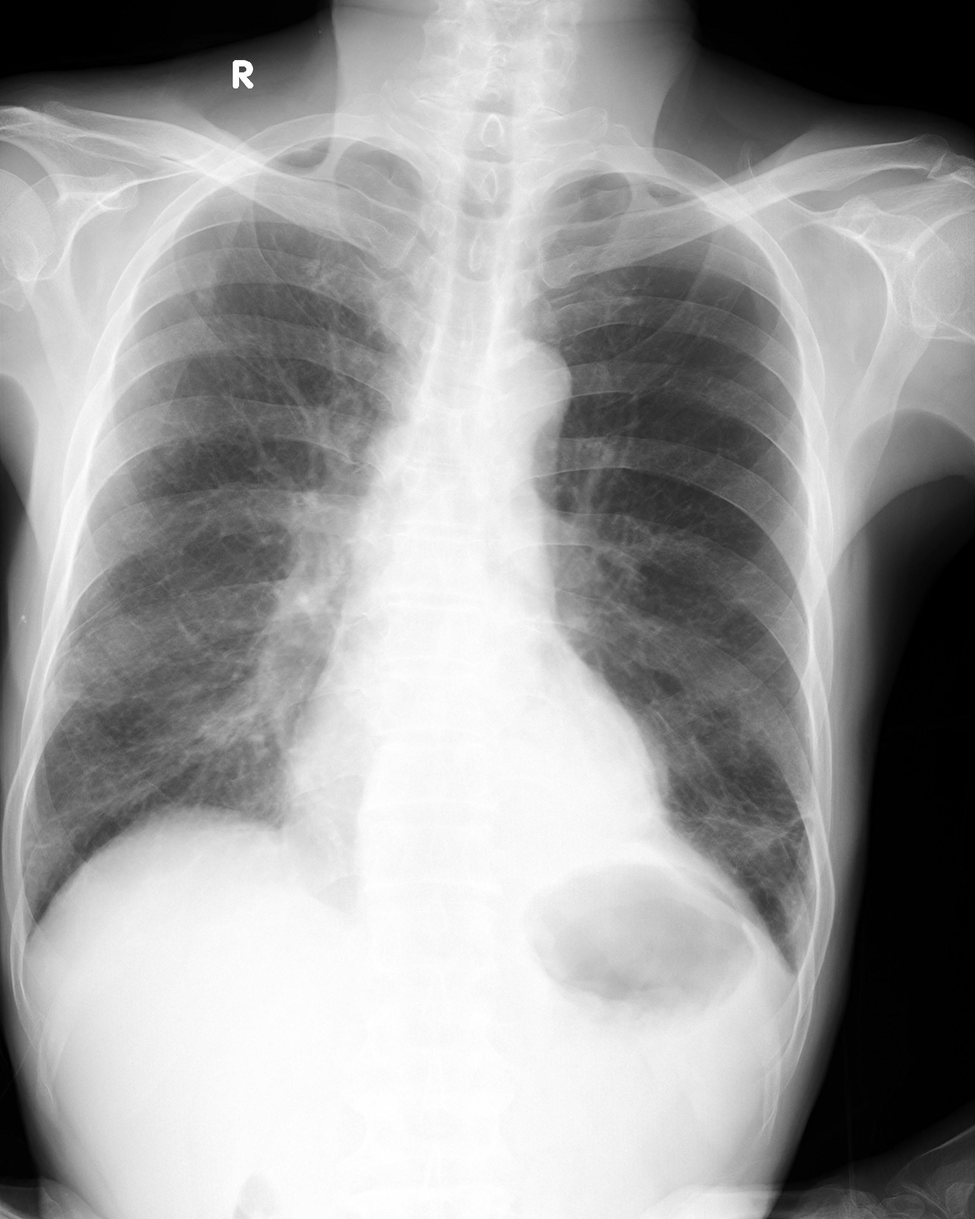Pleural thickening: (634, 163, 714, 204)
Pulmonary fibrosis: (680, 796, 813, 858), (58, 597, 135, 643), (19, 822, 81, 859)
